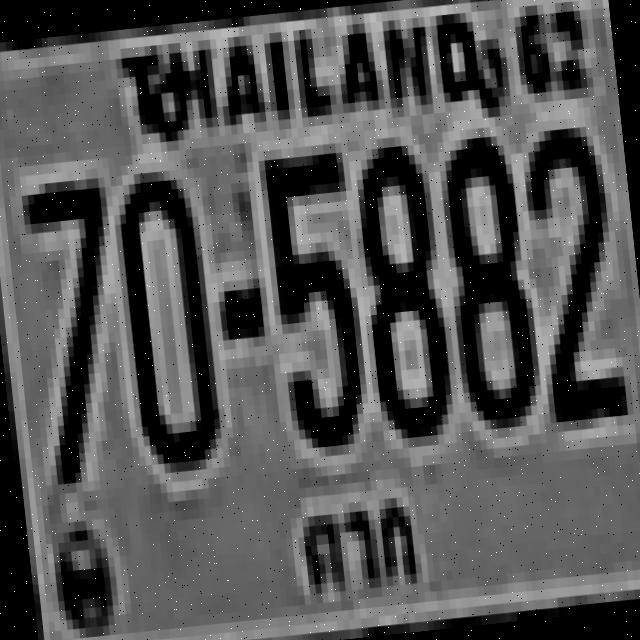0: (109, 159, 218, 466)
2: (518, 116, 620, 413)
5: (257, 144, 366, 450)
7: (17, 173, 126, 480), (20, 173, 120, 393)
8: (346, 134, 448, 431), (432, 125, 534, 422)
Tak: (288, 482, 436, 614)
